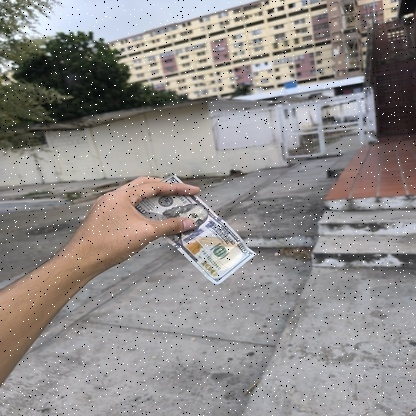one_hundred-front: (124, 174, 259, 285)
